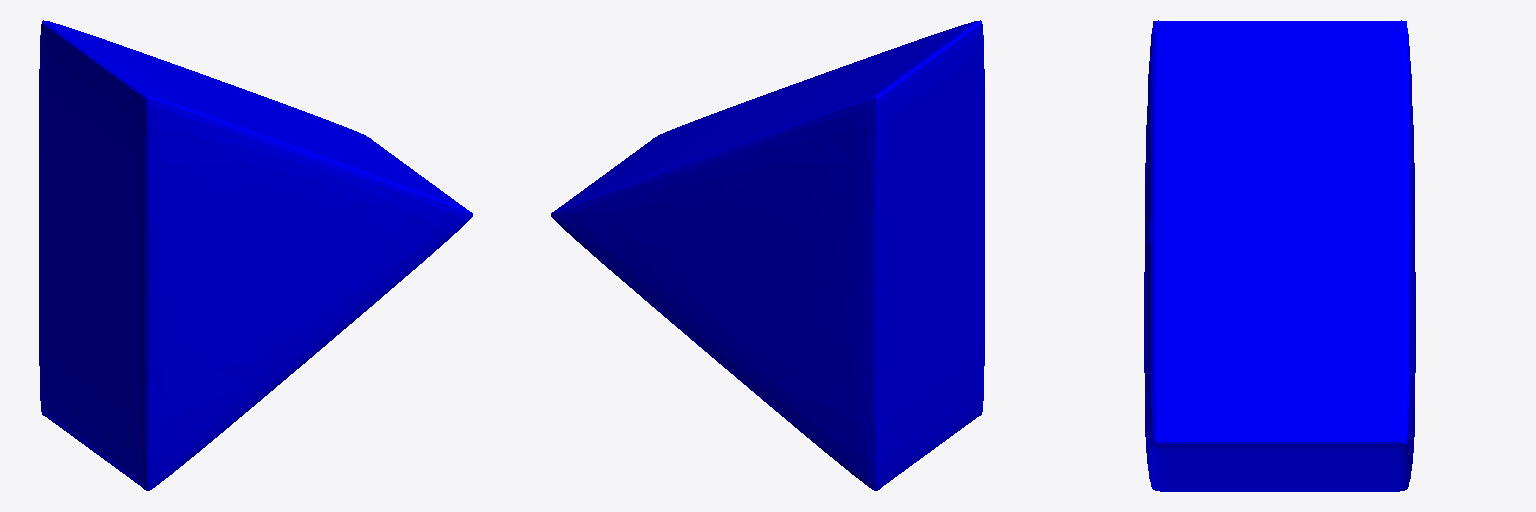
The robot description file, URDF, robot "p4.urdf":
<?xml version="0.0" ?>
<robot name="p4.urdf">
  <link name="baseLink">
    <contact>
      <lateral_friction value="1.0"/>
  <!--     <rolling_friction value="0.0"/>
      <spinning_friction value="0.01">
      <inertia_scaling value="3.0"/>
      <contact_cfm value="0.0"/>
      <contact_erp value="1.0"/> -->
    </contact>
    <inertial>
      <origin rpy="0 0 0" xyz="0 0 0"/>
       <mass value=".09"/>
       <inertia ixx="1" ixy="0" ixz="0" iyy="1" iyz="0" izz="1"/>
    </inertial>
    <visual>
      <origin rpy="0 0 0" xyz="0 0 0"/>
        <geometry>
      <mesh filename="P4.obj" scale=".06 .06 .06"/>
        </geometry>
        <material name="blue">
          <color rgba="0 0 1 0"/>
        </material>
    </visual>
    <collision>
        <origin rpy="0 0 0" xyz="0 0 0"/>
        <geometry>
          <mesh filename="P4.obj" scale=".06 .06 .06"/>
        </geometry>
    </collision>
  </link>
</robot>

--- What the picture shows (computed from the rendered views, not written in the file) ---
The picture shows the robot from 3 angles, left to right: view 1: azimuth 30°, elevation 25°; view 2: azimuth 150°, elevation 25°; view 3: azimuth 270°, elevation 25°; orthographic projection.
Model p4.urdf with 1 links and 0 joints (none), rooted at baseLink, posed all joints at 0.
Visible links, largest first — view 1: baseLink; view 2: baseLink; view 3: baseLink.
Link boxes in pixels (left/top/right/bottom): baseLink: left=39, top=20, right=472, bottom=490; baseLink: left=551, top=20, right=984, bottom=490; baseLink: left=1144, top=20, right=1415, bottom=491.
Size in the robot's own frame: 0.199 by 0.1188 by 0.2275 metres.
Meshes: 1 distinct files referenced, 1 mesh visuals loaded (1 OBJ).